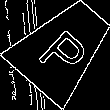P_NE: (32, 17, 94, 79)
